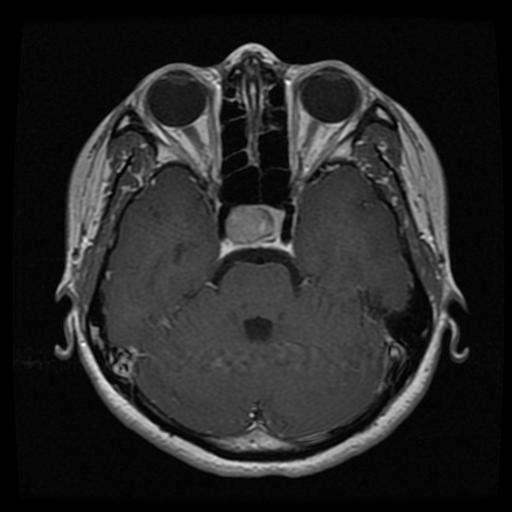Tumour-Pituitary: (209, 205, 305, 264)
